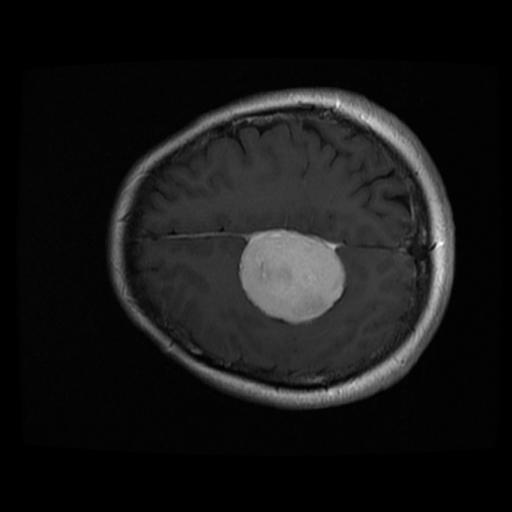meningioma: (239, 230, 344, 326)
